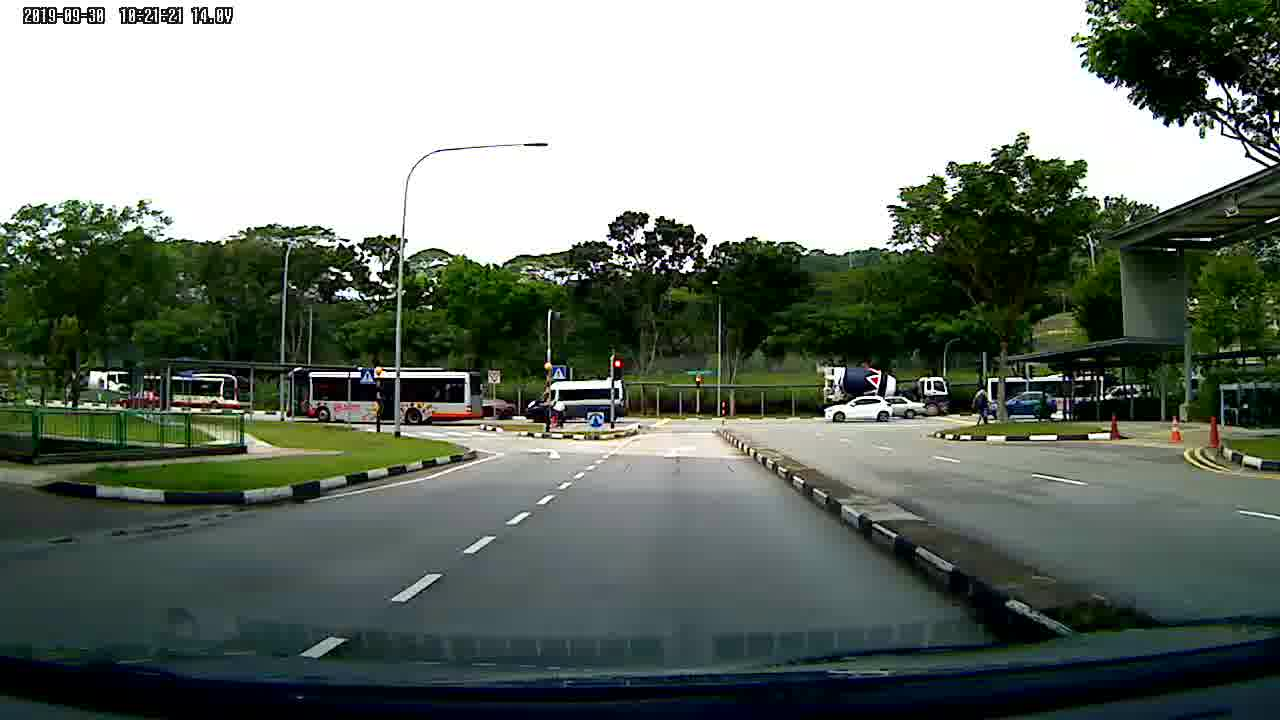bus: (283, 365, 486, 433), (140, 372, 255, 414)
car: (821, 394, 892, 426), (991, 390, 1061, 420), (890, 396, 927, 424)
